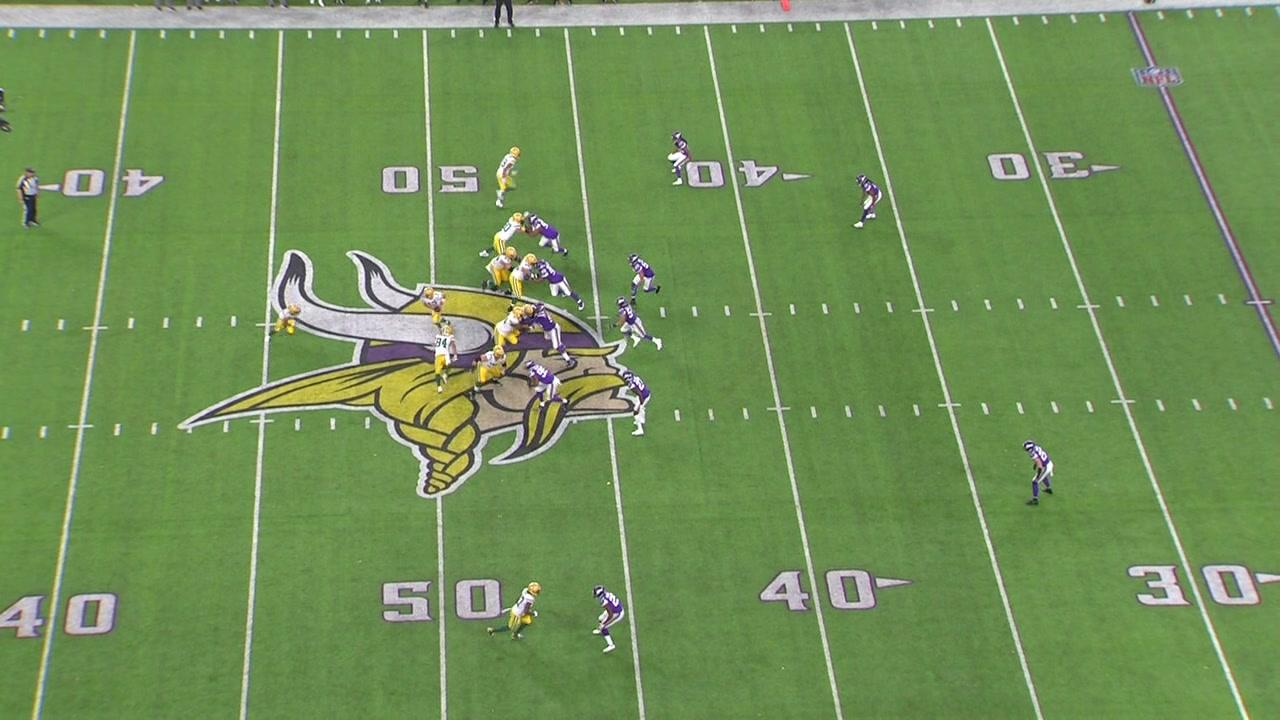player: (518, 301, 577, 368), (483, 581, 544, 642), (607, 295, 665, 352), (530, 259, 586, 312), (478, 210, 531, 261), (589, 583, 626, 655), (523, 358, 571, 413), (466, 344, 509, 401), (522, 211, 570, 260), (1022, 438, 1056, 507), (621, 370, 653, 437), (505, 251, 538, 315), (480, 246, 524, 294), (481, 306, 524, 354), (430, 325, 459, 396), (628, 252, 662, 307), (494, 145, 523, 209), (851, 173, 884, 229), (419, 286, 453, 334), (664, 130, 693, 186), (265, 303, 303, 345), (516, 303, 535, 337)
ref: (16, 166, 44, 232)
